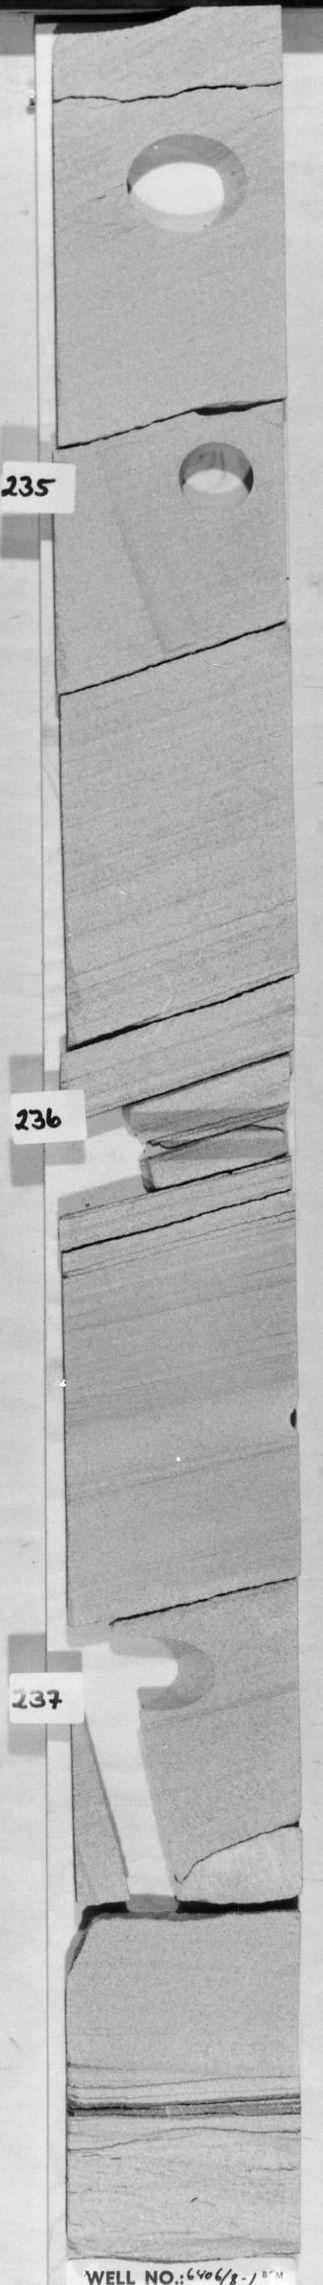hplug: (113, 1628, 228, 1721), (170, 439, 260, 517)
scal: (113, 127, 256, 235)
vplug: (105, 474, 201, 662), (92, 1720, 173, 1910), (84, 1106, 169, 1215)
